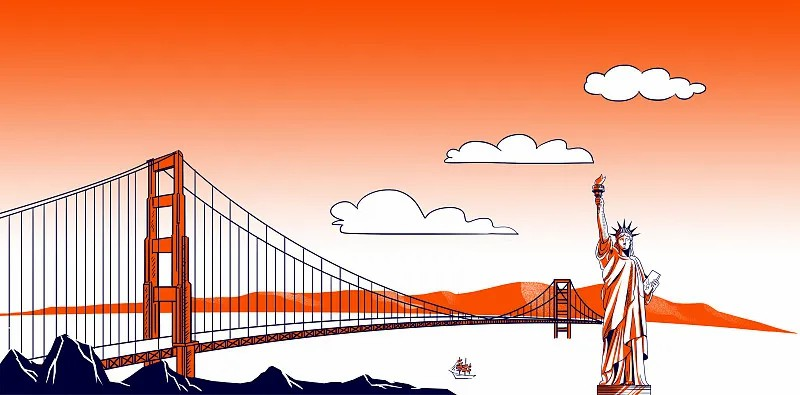SL: (592, 172, 661, 395)
